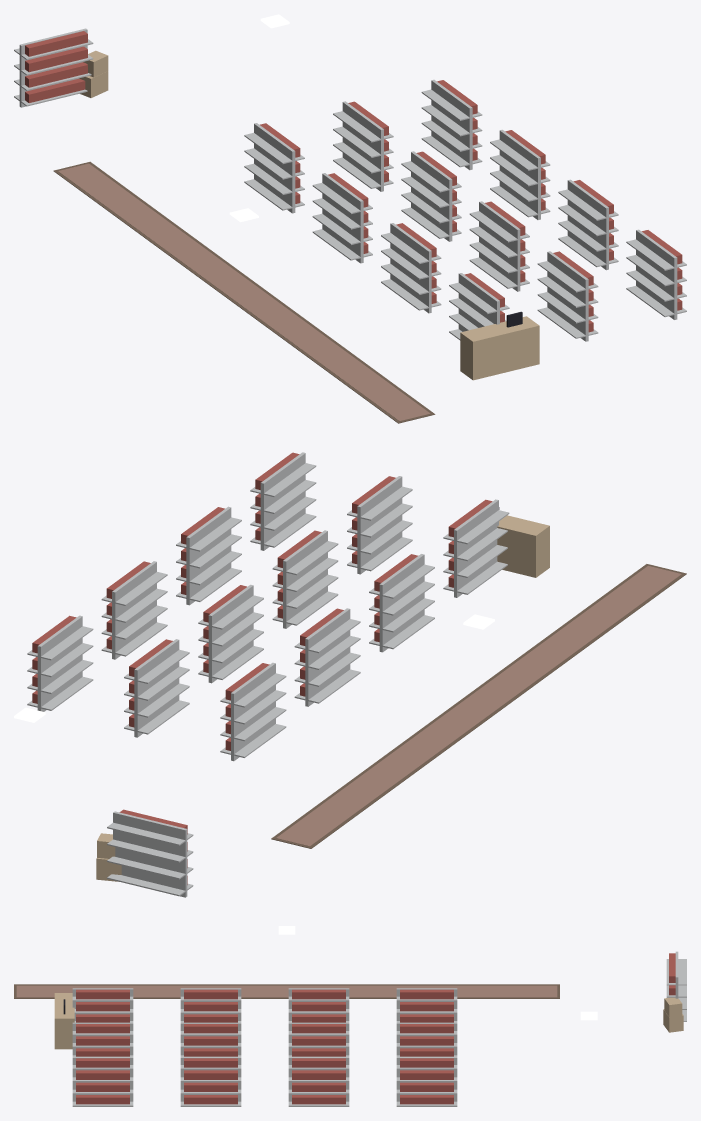
The model's file is fine-s0.glb.
3 views of the same model, one above another, from view 1: azimuth 30°, elevation 25°; view 2: azimuth 150°, elevation 25°; view 3: azimuth 270°, elevation 25° (orthographic). The views are drawn at different scales.
Parts seen in each view (by area): view 1: soft-s0, shelving.000, shop-counter.000, shelf.008, shelf.000, shelf.001, shelf.007, shelf.004, shelf.006, shelf.002, shelf.009, shelf.011 (+4 smaller); view 2: soft-s0, shelving.000, shelf.011, shelf.009, shelf.001, shelf.000, shelf.002, shelf.006, shelf.004, shelf.005, shelf.007, shelf.010 (+4 smaller); view 3: soft-s0, shelf.008, shelf.009, shelf.010, shelf.011, shelf.000, shelf.001, shelf.002, shelf.004, shelf.005, shelf.006, shelf.007 (+4 smaller).
Part boxes in pixels (x1,y1,x2,y2): soft-s0: [53, 161, 435, 423]; shelving.000: [14, 28, 93, 107]; shop-counter.000: [460, 311, 539, 380]; shelf.008: [421, 79, 482, 170]; shelf.000: [244, 123, 304, 213]; shelf.001: [312, 173, 372, 263]; shelf.007: [537, 251, 598, 341]; shelf.004: [333, 101, 393, 191]; shelf.006: [469, 201, 529, 291]; shelf.002: [381, 223, 441, 313]; shelf.009: [490, 129, 550, 219]; shelf.011: [626, 229, 686, 319]; soft-s0: [271, 564, 686, 848]; shelving.000: [107, 809, 193, 897]; shelf.011: [250, 452, 316, 550]; shelf.009: [101, 561, 167, 659]; shelf.001: [294, 608, 360, 706]; shelf.000: [220, 662, 286, 761]; shelf.002: [369, 554, 434, 652]; shelf.006: [272, 530, 338, 628]; shelf.004: [124, 639, 189, 737]; shelf.005: [198, 584, 263, 683]; shelf.007: [347, 476, 412, 574]; shelf.010: [176, 506, 241, 605]; soft-s0: [14, 984, 559, 998]; shelf.008: [396, 1056, 457, 1106]; shelf.009: [288, 1056, 349, 1106]; shelf.010: [180, 1056, 241, 1106]; shelf.011: [72, 1056, 133, 1106]; shelf.000: [396, 988, 457, 1022]; shelf.001: [288, 988, 349, 1022]; shelf.002: [180, 988, 241, 1022]; shelf.004: [396, 1022, 457, 1056]; shelf.005: [288, 1022, 349, 1056]; shelf.006: [180, 1022, 241, 1056]; shelf.007: [72, 1022, 133, 1056].
Bounding box in the file's own units: 8.81 × 2.03 × 19.94.
